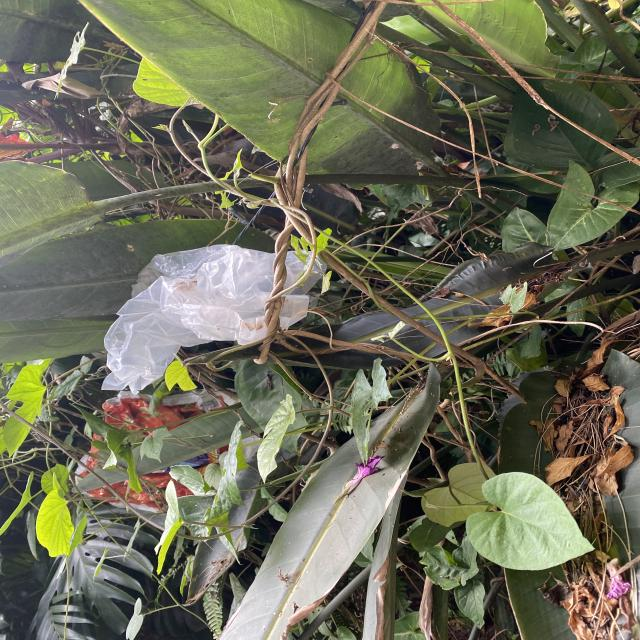bag: (102, 243, 326, 395)
